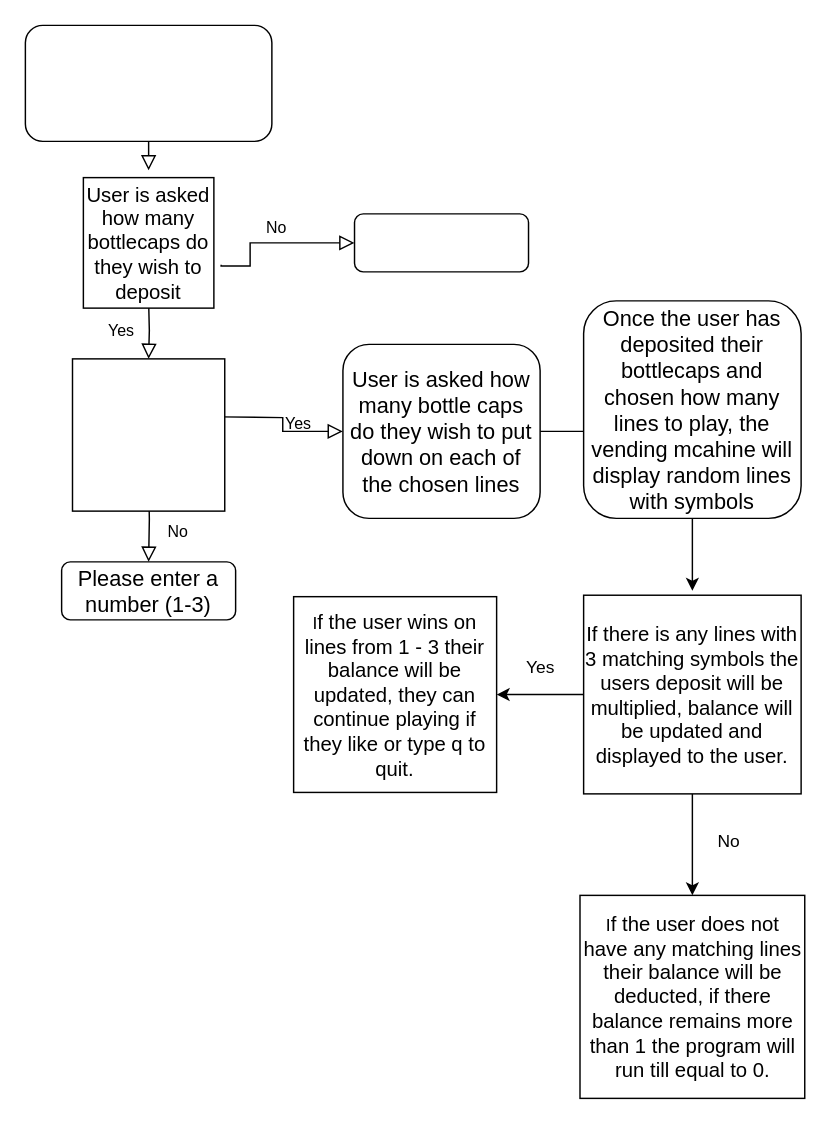
The diagram is 831 pixels wide and 1124 high, and some of its shapes have lost their labels. The shapes that lost their labels are listed below. From the top down, each one's box as (x1, y1, x2, y2) in pixels, then its label:
(24, 24, 272, 141): User gets message of the game's rules and instructions on how toplay
(353, 212, 529, 272): Please enter a number.
(71, 357, 225, 511): User is then asked how many lines do they wish to play on
